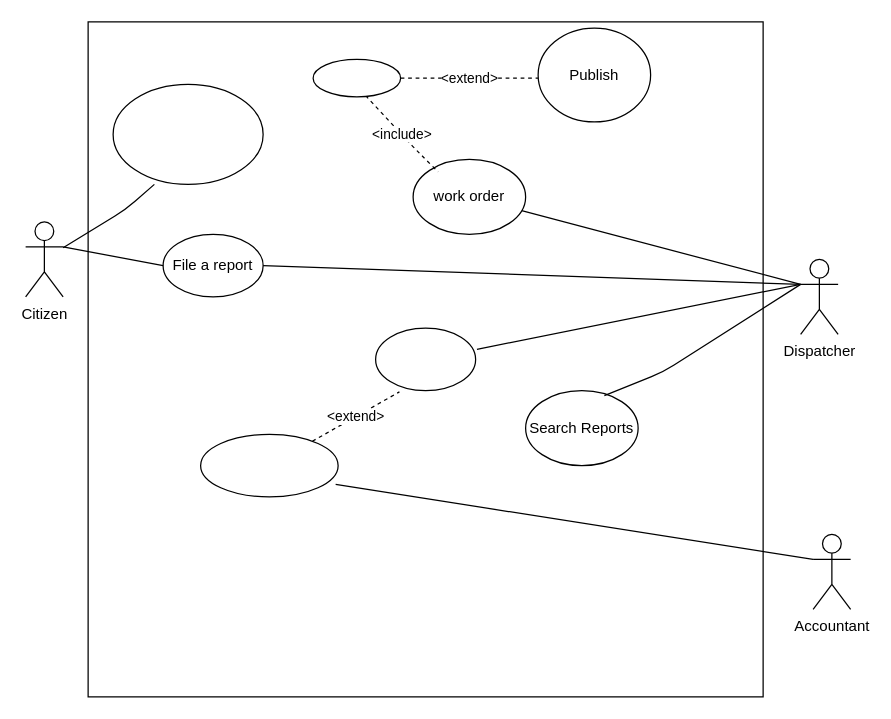
This 891x719 diagram has some shape labels left out. Here are the shapes that lost their labels. From the top down, the centre of each, then its label:
(356,77): Damage File
(187,133): Log IN
(425,359): Assign clerk to report
(268,465): Report Bill
